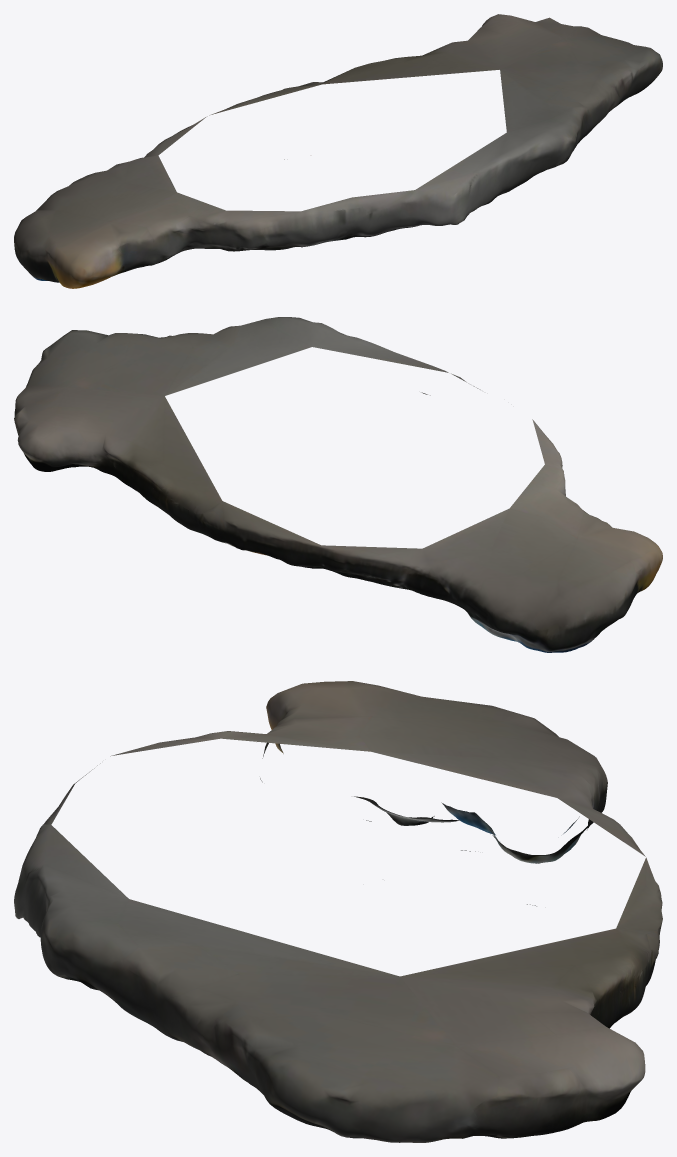
3 renders of one model, top to bottom at view 1: azimuth 30°, elevation 25°; view 2: azimuth 150°, elevation 25°; view 3: azimuth 270°, elevation 25°, orthographic. The views are drawn at different scales.
Size of the model in its own units: 0.8598 by 0.1919 by 0.4519.
1 material, 1 textured.
